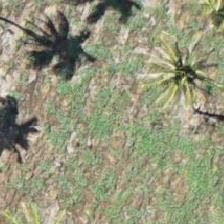coconut_tree: (133, 46, 223, 136), (155, 0, 223, 45)
